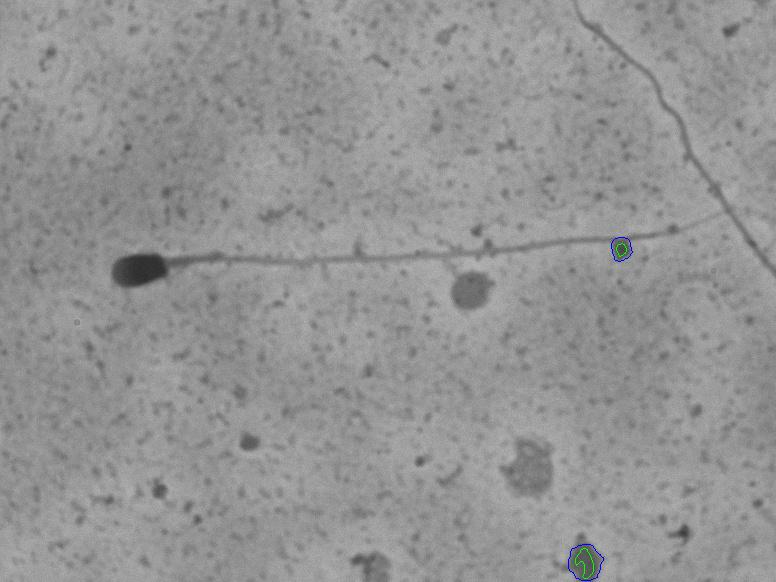Abnormal: (93, 191, 705, 320)
